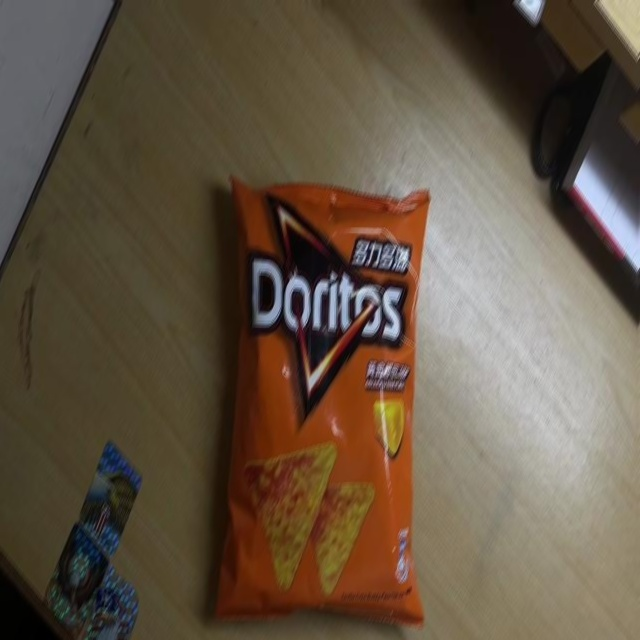Doritos: (216, 168, 428, 625)
